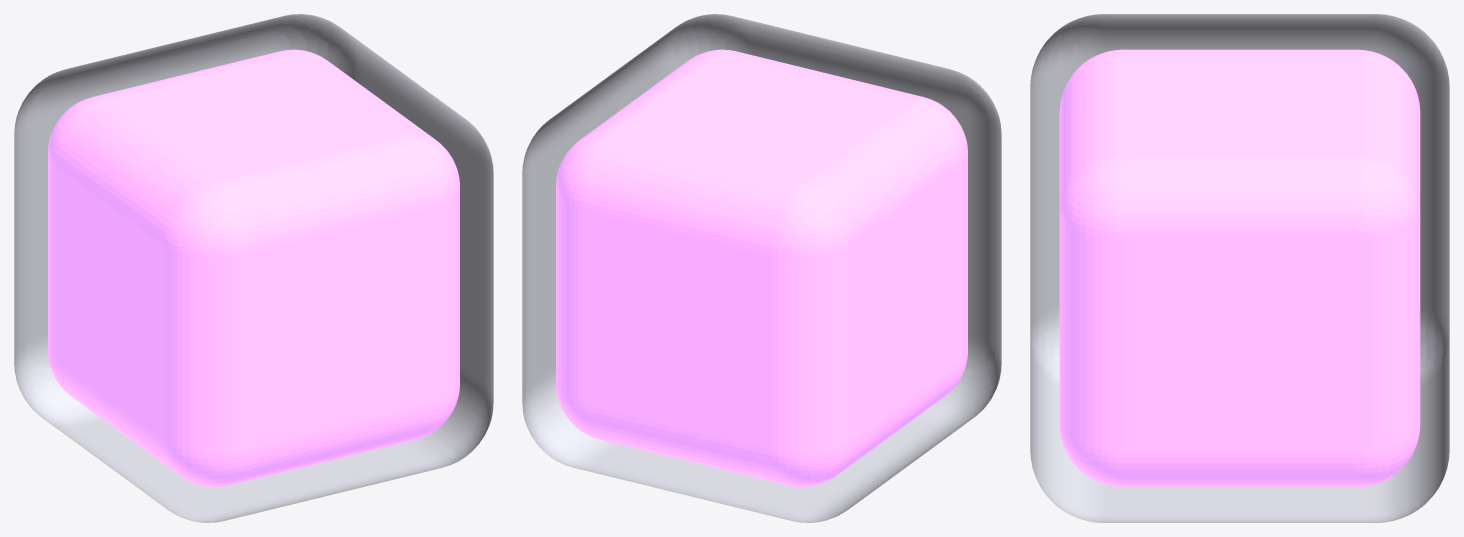
Rendered from cubiqo_ai_cuboid_static.glb.
3 views of the same model, side by side, from view 1: azimuth 30°, elevation 25°; view 2: azimuth 150°, elevation 25°; view 3: azimuth 270°, elevation 25° (orthographic). The views are drawn at different scales.
Parts seen in each view (by area): view 1: InnerPlasma, OuterGlass; view 2: InnerPlasma, OuterGlass; view 3: InnerPlasma, OuterGlass.
Boxes of the visible parts, x1,y1,x2,y2 form: InnerPlasma: (48,49,459,487); OuterGlass: (14,14,493,522); InnerPlasma: (556,49,967,487); OuterGlass: (522,14,1001,522); InnerPlasma: (1059,49,1420,487); OuterGlass: (1030,14,1449,522).
Size of the model in its own units: 2 by 2 by 2.
